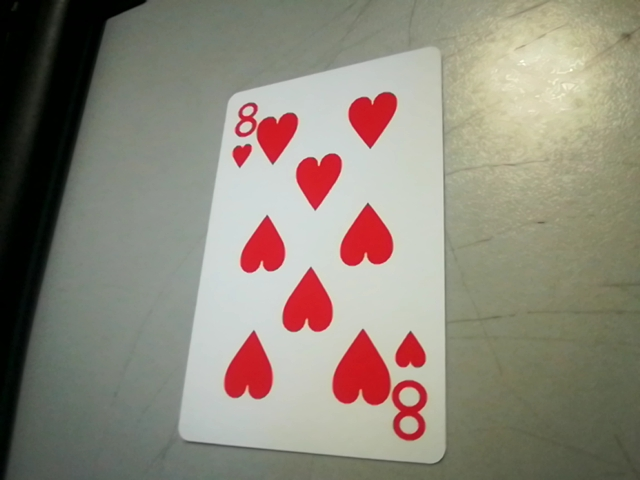hx 8: (388, 328, 437, 450)
